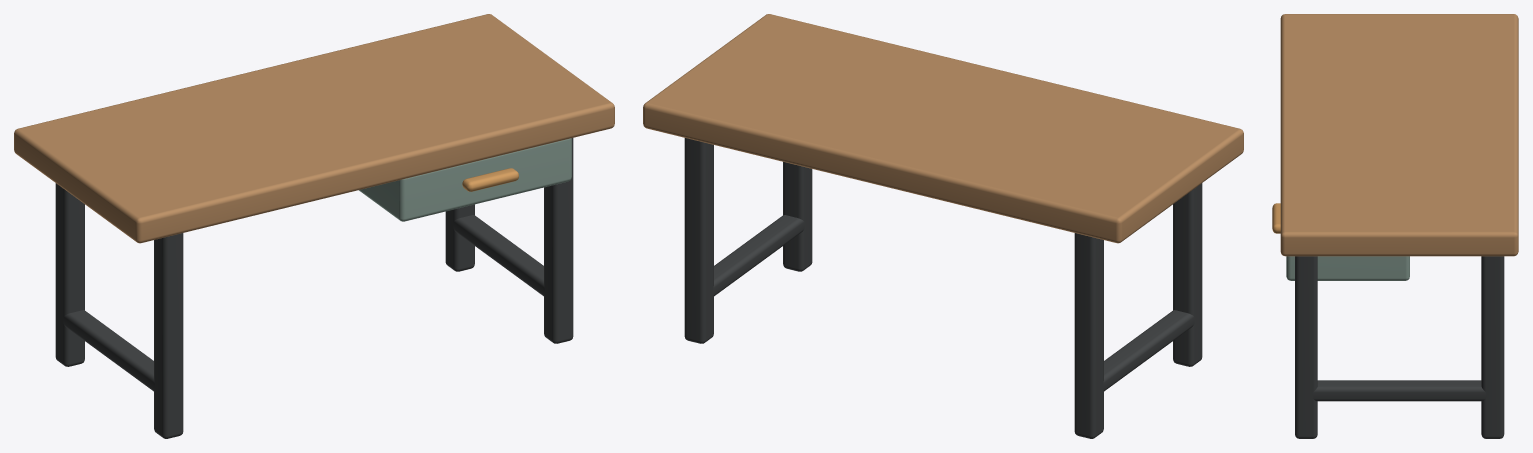
Rendered from mesa-escritorio.glb.
3 renders of one model, left to right at view 1: azimuth 30°, elevation 25°; view 2: azimuth 150°, elevation 25°; view 3: azimuth 270°, elevation 25°, orthographic. The views are drawn at different scales.
Parts seen in each view (by area): view 1: Tampo, Gaveta, Pé metálico, Pé metálico.002, Pé metálico.001, Travessa.001, Travessa, Pé metálico.003, Puxador; view 2: Tampo, Pé metálico.001, Pé metálico.003, Pé metálico, Pé metálico.002, Travessa.001, Travessa; view 3: Tampo, Pé metálico.003, Pé metálico.002, Travessa.001, Gaveta, Puxador.
Part boxes in pixels (left/top/right/bottom): Tampo: left=14, top=14, right=614, bottom=243; Gaveta: left=359, top=138, right=571, bottom=221; Pé metálico: left=154, top=233, right=183, bottom=438; Pé metálico.002: left=544, top=138, right=573, bottom=343; Pé metálico.001: left=55, top=183, right=84, bottom=366; Travessa.001: left=453, top=215, right=544, bottom=296; Travessa: left=63, top=310, right=154, bottom=391; Pé metálico.003: left=445, top=204, right=474, bottom=271; Puxador: left=462, top=168, right=518, bottom=191; Tampo: left=643, top=14, right=1243, bottom=243; Pé metálico.001: left=1074, top=233, right=1103, bottom=438; Pé metálico.003: left=684, top=138, right=713, bottom=343; Pé metálico: left=1173, top=183, right=1202, bottom=366; Pé metálico.002: left=783, top=162, right=812, bottom=271; Travessa.001: left=713, top=215, right=804, bottom=296; Travessa: left=1103, top=310, right=1194, bottom=391; Tampo: left=1280, top=14, right=1518, bottom=256; Pé metálico.003: left=1481, top=256, right=1504, bottom=438; Pé metálico.002: left=1295, top=256, right=1317, bottom=438; Travessa.001: left=1313, top=380, right=1486, bottom=401; Gaveta: left=1286, top=256, right=1409, bottom=280; Puxador: left=1272, top=203, right=1280, bottom=233.
Size of the model in its own units: 2.75 by 1.29 by 1.29.
